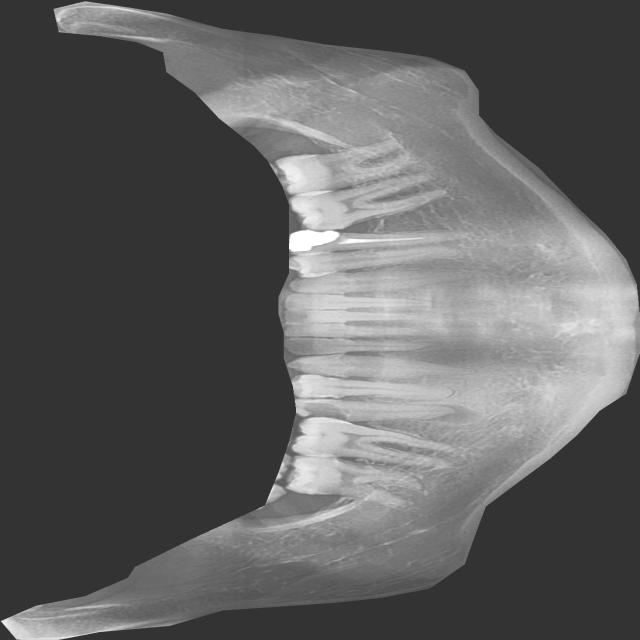mandibula: (1, 0, 640, 640)
